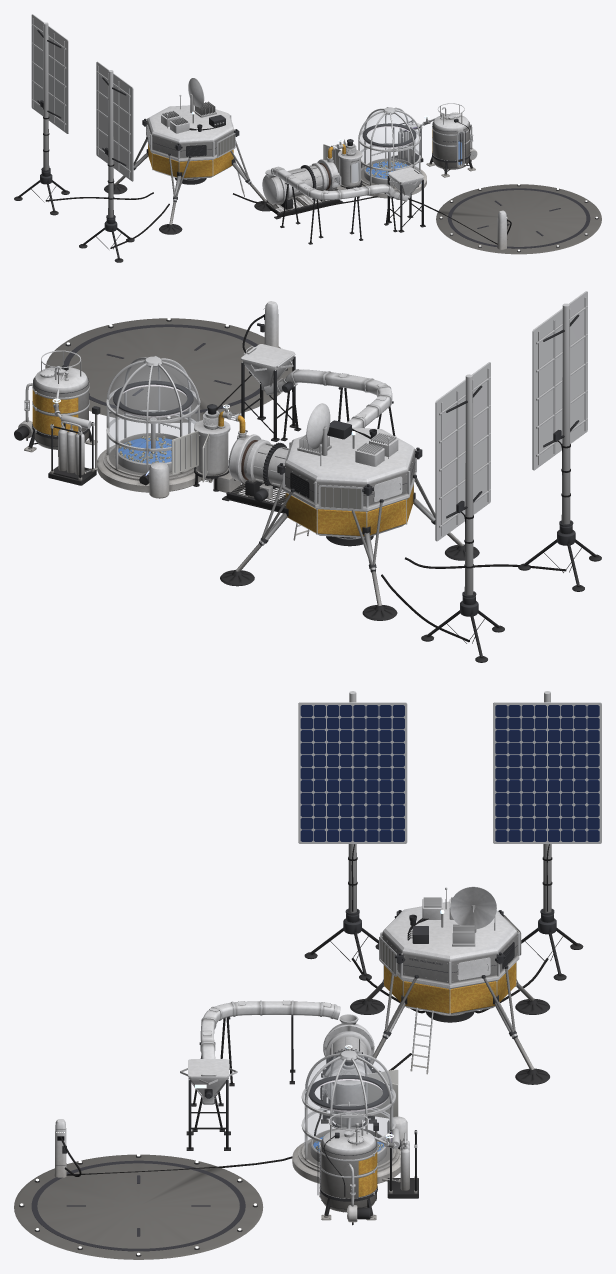
Rendered from station.glb.
The picture shows the model from 3 angles, top to bottom: view 1: azimuth 30°, elevation 25°; view 2: azimuth 150°, elevation 25°; view 3: azimuth 270°, elevation 25°; orthographic projection. The views are drawn at different scales.
Visible parts, largest first — view 1: pad_rover, modulo_cuerpo, solar_A_marco, solar_B_marco, bio_vidrio, deposito_cuerpo, bio_armazon, modulo_mli, cinta_conducto, pad_marcas, modulo_patas, solar_A_nervios (+17 smaller); view 2: pad_rover, bio_vidrio, solar_B_marco, solar_A_marco, modulo_cuerpo, bio_armazon, modulo_mli, cinta_conducto, deposito_cuerpo, modulo_patas, solar_B_mastil, solar_A_mastil (+28 smaller); view 3: pad_rover, solar_B_celdas, solar_A_celdas, modulo_cuerpo, bio_vidrio, solar_A_marco, solar_B_marco, deposito_cuerpo, modulo_mli, bio_armazon, cinta_conducto, pad_marcas (+13 smaller).
Boxes of the visible parts, <box> form: pad_rover: <box>436,184,601,254</box>; modulo_cuerpo: <box>146,105,234,179</box>; solar_A_marco: <box>96,61,133,181</box>; solar_B_marco: <box>31,14,68,133</box>; bio_vidrio: <box>360,109,418,186</box>; deposito_cuerpo: <box>432,114,469,169</box>; bio_armazon: <box>358,107,420,188</box>; modulo_mli: <box>148,143,233,177</box>; cinta_conducto: <box>271,167,408,201</box>; pad_marcas: <box>447,188,590,248</box>; modulo_patas: <box>114,139,266,224</box>; solar_A_nervios: <box>96,66,130,177</box>; pad_rover: <box>45,318,292,423</box>; bio_vidrio: <box>109,360,197,474</box>; solar_B_marco: <box>435,362,490,541</box>; solar_A_marco: <box>532,291,587,470</box>; modulo_cuerpo: <box>283,427,416,538</box>; bio_armazon: <box>106,356,200,477</box>; modulo_mli: <box>285,485,413,536</box>; cinta_conducto: <box>264,369,392,427</box>; deposito_cuerpo: <box>33,366,88,449</box>; modulo_patas: <box>236,478,463,605</box>; solar_B_mastil: <box>465,374,473,595</box>; solar_A_mastil: <box>562,303,570,524</box>; pad_rover: <box>14,1154,263,1259</box>; solar_B_celdas: <box>495,705,599,841</box>; solar_A_celdas: <box>300,705,404,841</box>; modulo_cuerpo: <box>382,901,519,1015</box>; bio_vidrio: <box>304,1053,393,1164</box>; solar_A_marco: <box>298,702,407,843</box>; solar_B_marco: <box>493,702,601,843</box>; deposito_cuerpo: <box>321,1128,376,1212</box>; modulo_mli: <box>384,962,516,1013</box>; bio_armazon: <box>301,1050,395,1168</box>; cinta_conducto: <box>200,1001,340,1104</box>; pad_marcas: <box>31,1160,245,1251</box>.
Bounding box in the file's own units: 19.17 × 7.62 × 15.1.
24 materials, 2 textured.
